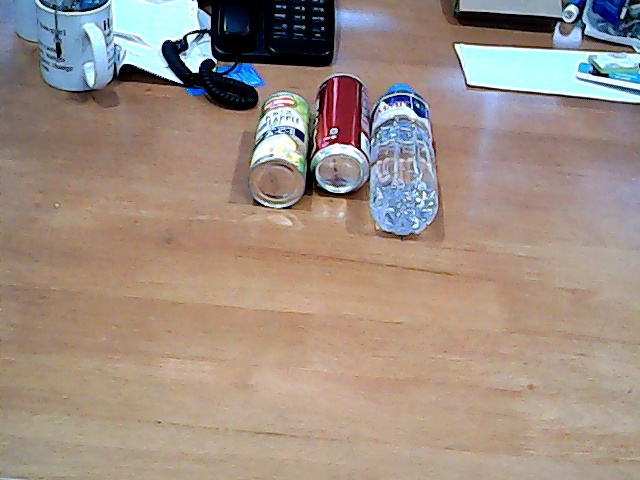Cola: (307, 62, 370, 198)
Pine Juice: (234, 80, 307, 217)
Summit Water: (368, 70, 441, 246)
